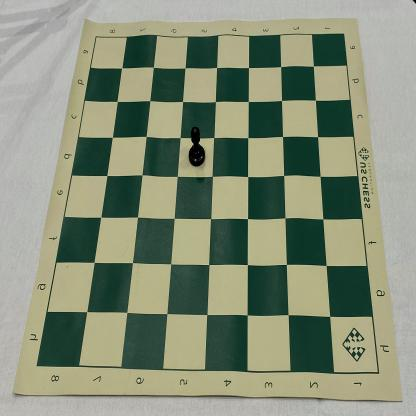black-pawn: (188, 126, 206, 167)
